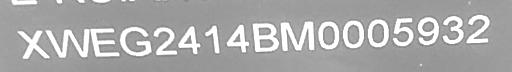letter: (43, 26, 91, 57), (279, 19, 317, 53), (118, 24, 152, 59), (88, 24, 122, 58), (15, 27, 51, 58), (249, 19, 281, 53), (149, 23, 179, 56), (224, 21, 252, 56), (176, 23, 204, 56), (464, 12, 492, 44), (340, 18, 366, 50), (316, 18, 340, 51), (391, 15, 415, 47), (440, 14, 464, 45), (416, 16, 440, 47), (366, 18, 390, 49), (202, 22, 224, 55)
